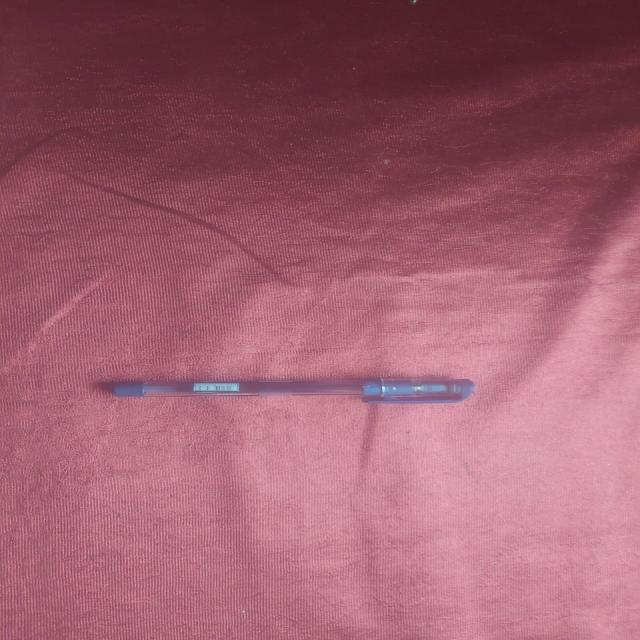pen: (100, 366, 482, 413)
